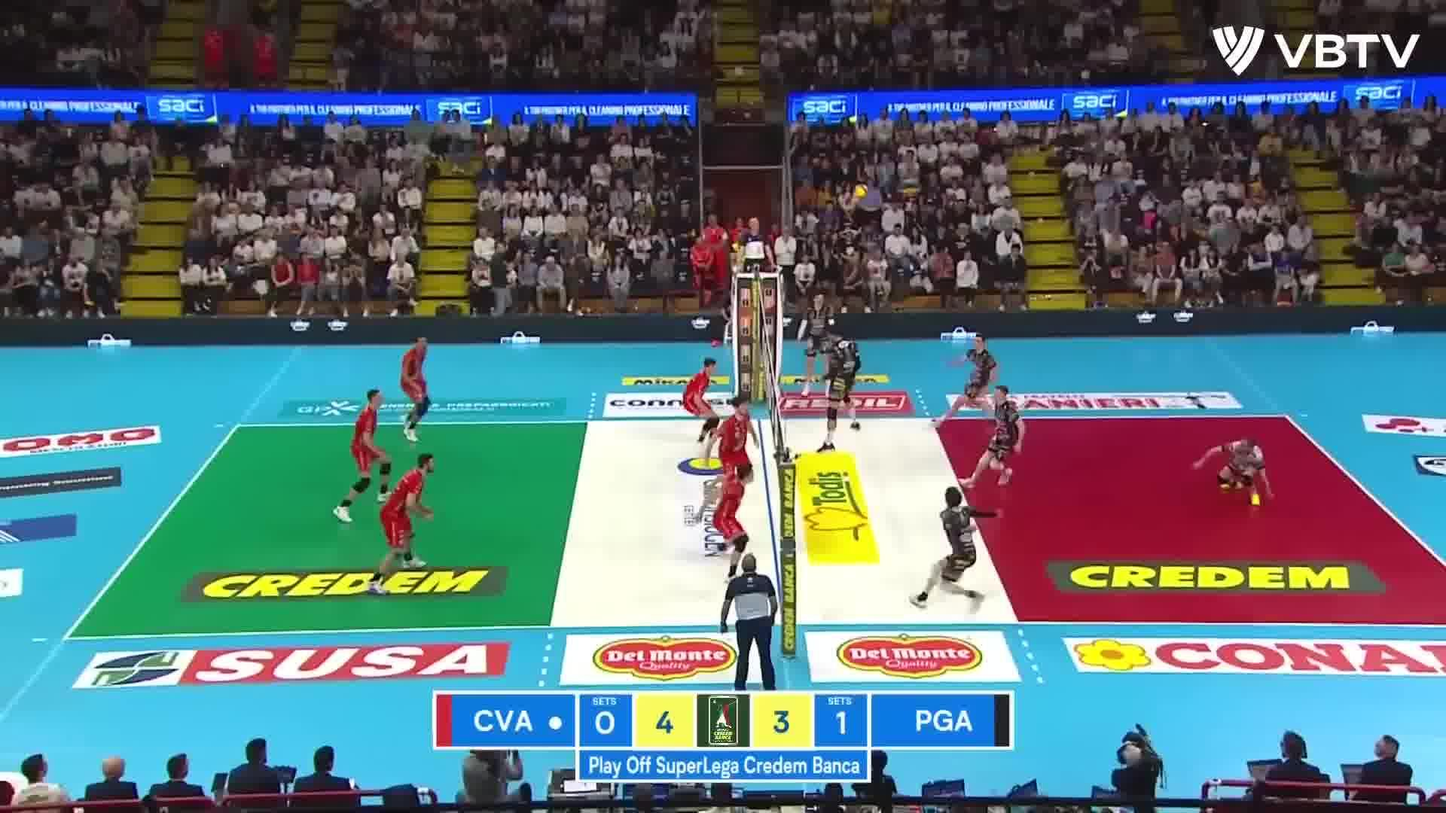balls: (854, 184, 871, 199)
